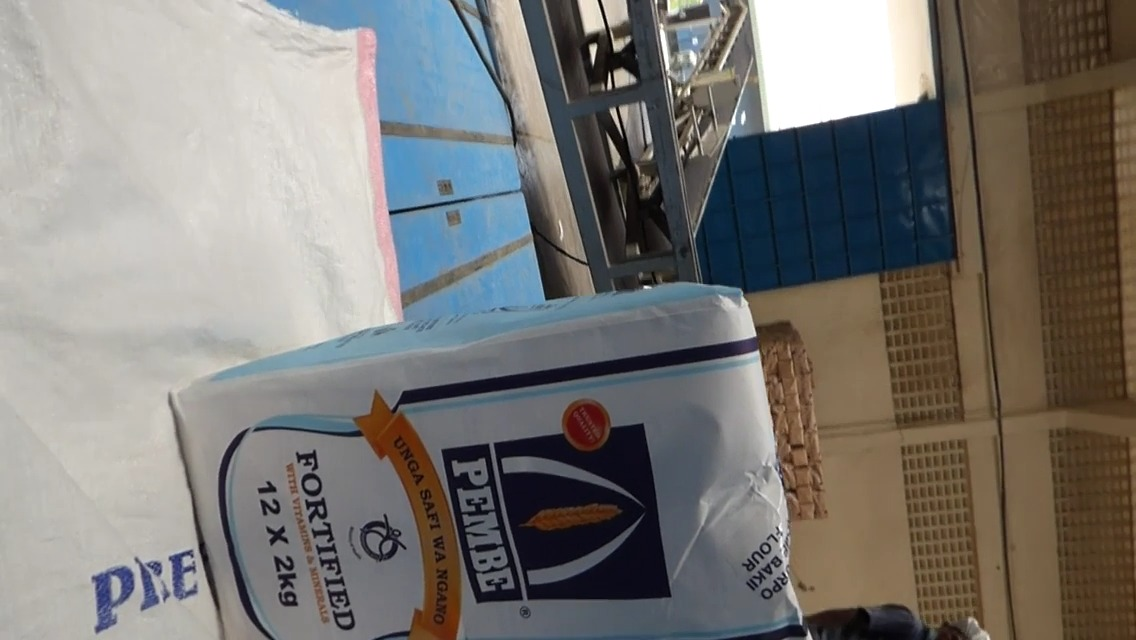wheat_flour_blue_label: (161, 285, 802, 640)
